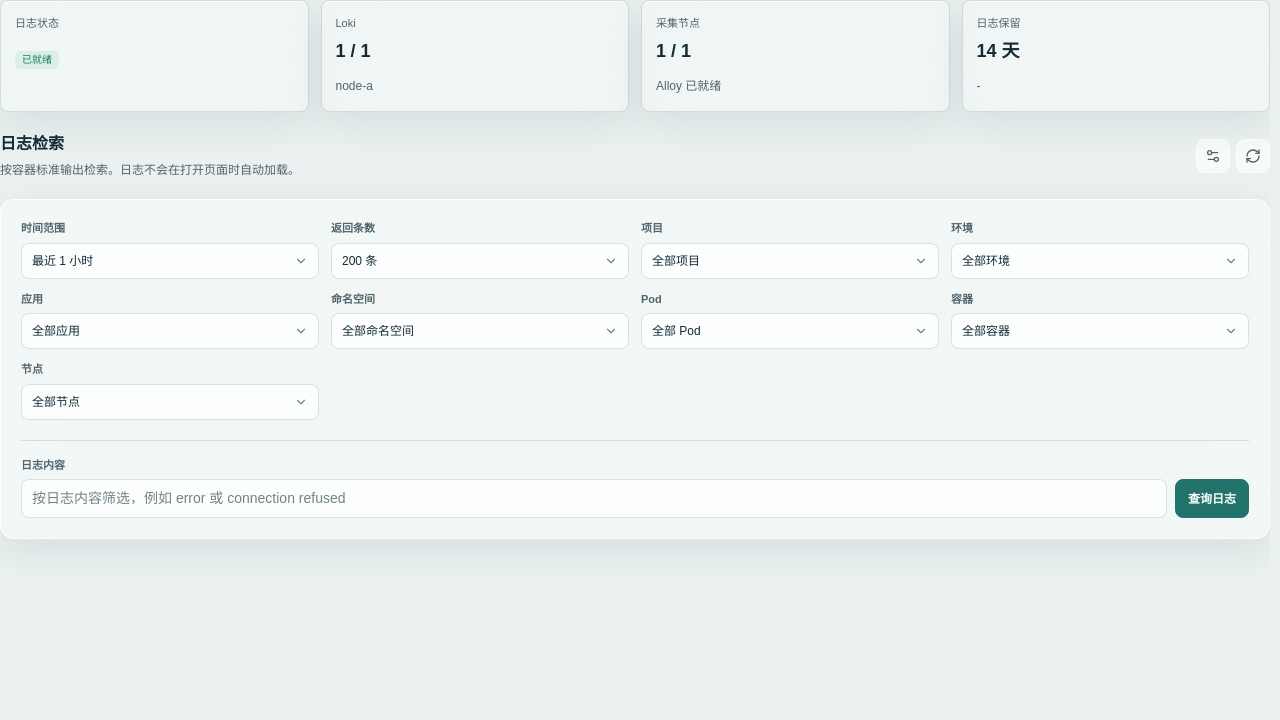
Scenario: LoggingWorkspace › keeps the settings drawer open and scopes a failed settings save to it
Click the button with test id "logging-settings" at (1213, 156), box [1196,138,1230,172]
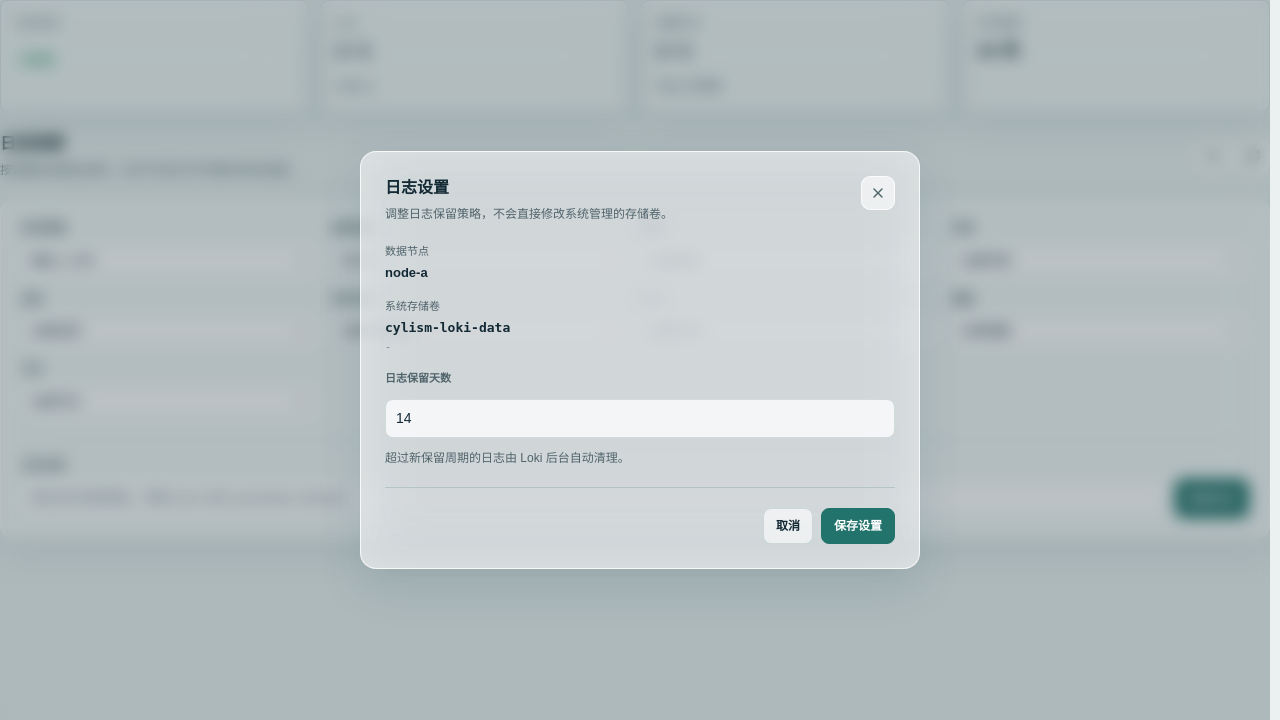
Submit the form with class "logging-settings-modal", box [360,151,920,569]
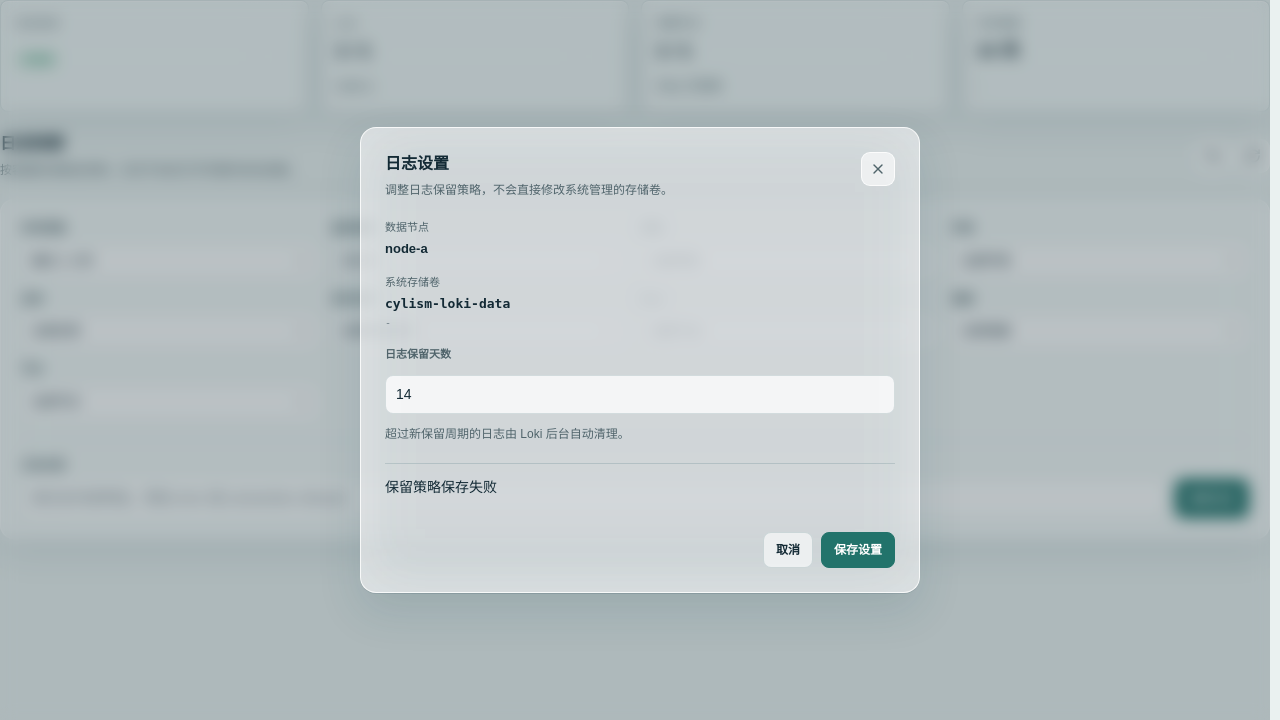
Expected: the text "日志检索" is shown, [0,135,64,152]
Result: the form with class "logging-settings-modal" is shown at [360,127,920,593]
Result: the form with class "logging-settings-modal" shows "保留策略保存失败" at [385,479,497,495]
